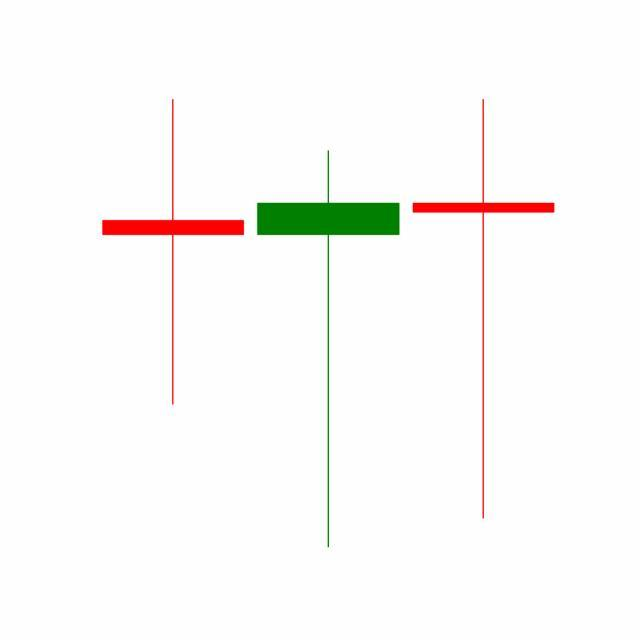Spinning Top: (250, 147, 407, 553)
